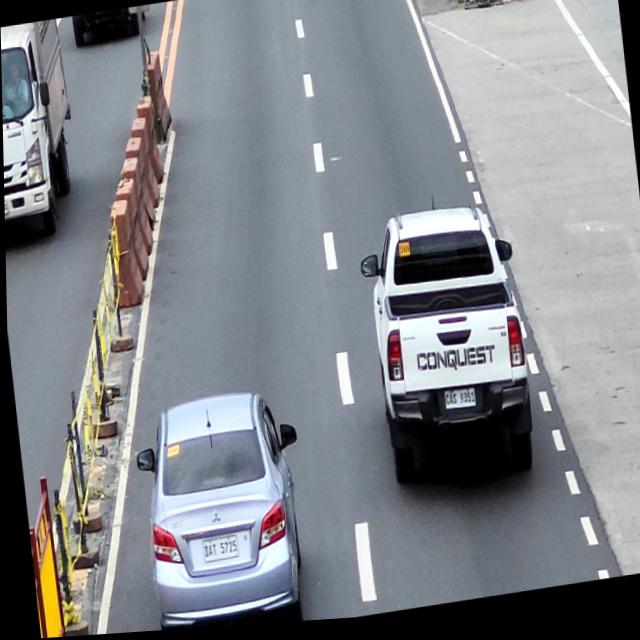Car: (353, 203, 536, 499), (129, 385, 314, 634)
License-Plate: (199, 539, 237, 564), (441, 391, 475, 416), (3, 199, 7, 216)
Truck: (0, 17, 83, 249)
